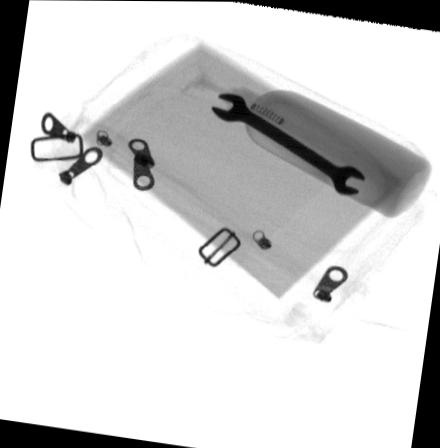Wrench: (211, 94, 366, 196)
